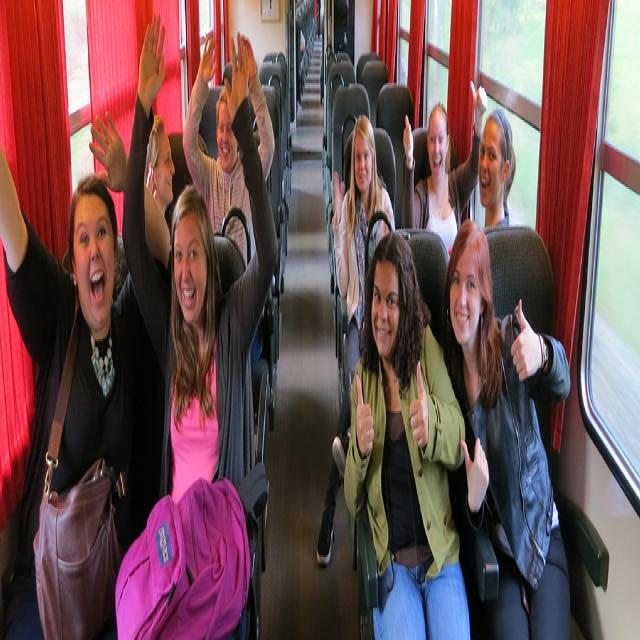body: (116, 5, 280, 640), (0, 92, 171, 638), (437, 210, 576, 638), (336, 224, 474, 638), (315, 108, 397, 566), (181, 29, 277, 371), (402, 75, 489, 261), (478, 107, 516, 230), (144, 112, 176, 218), (294, 0, 305, 110)
